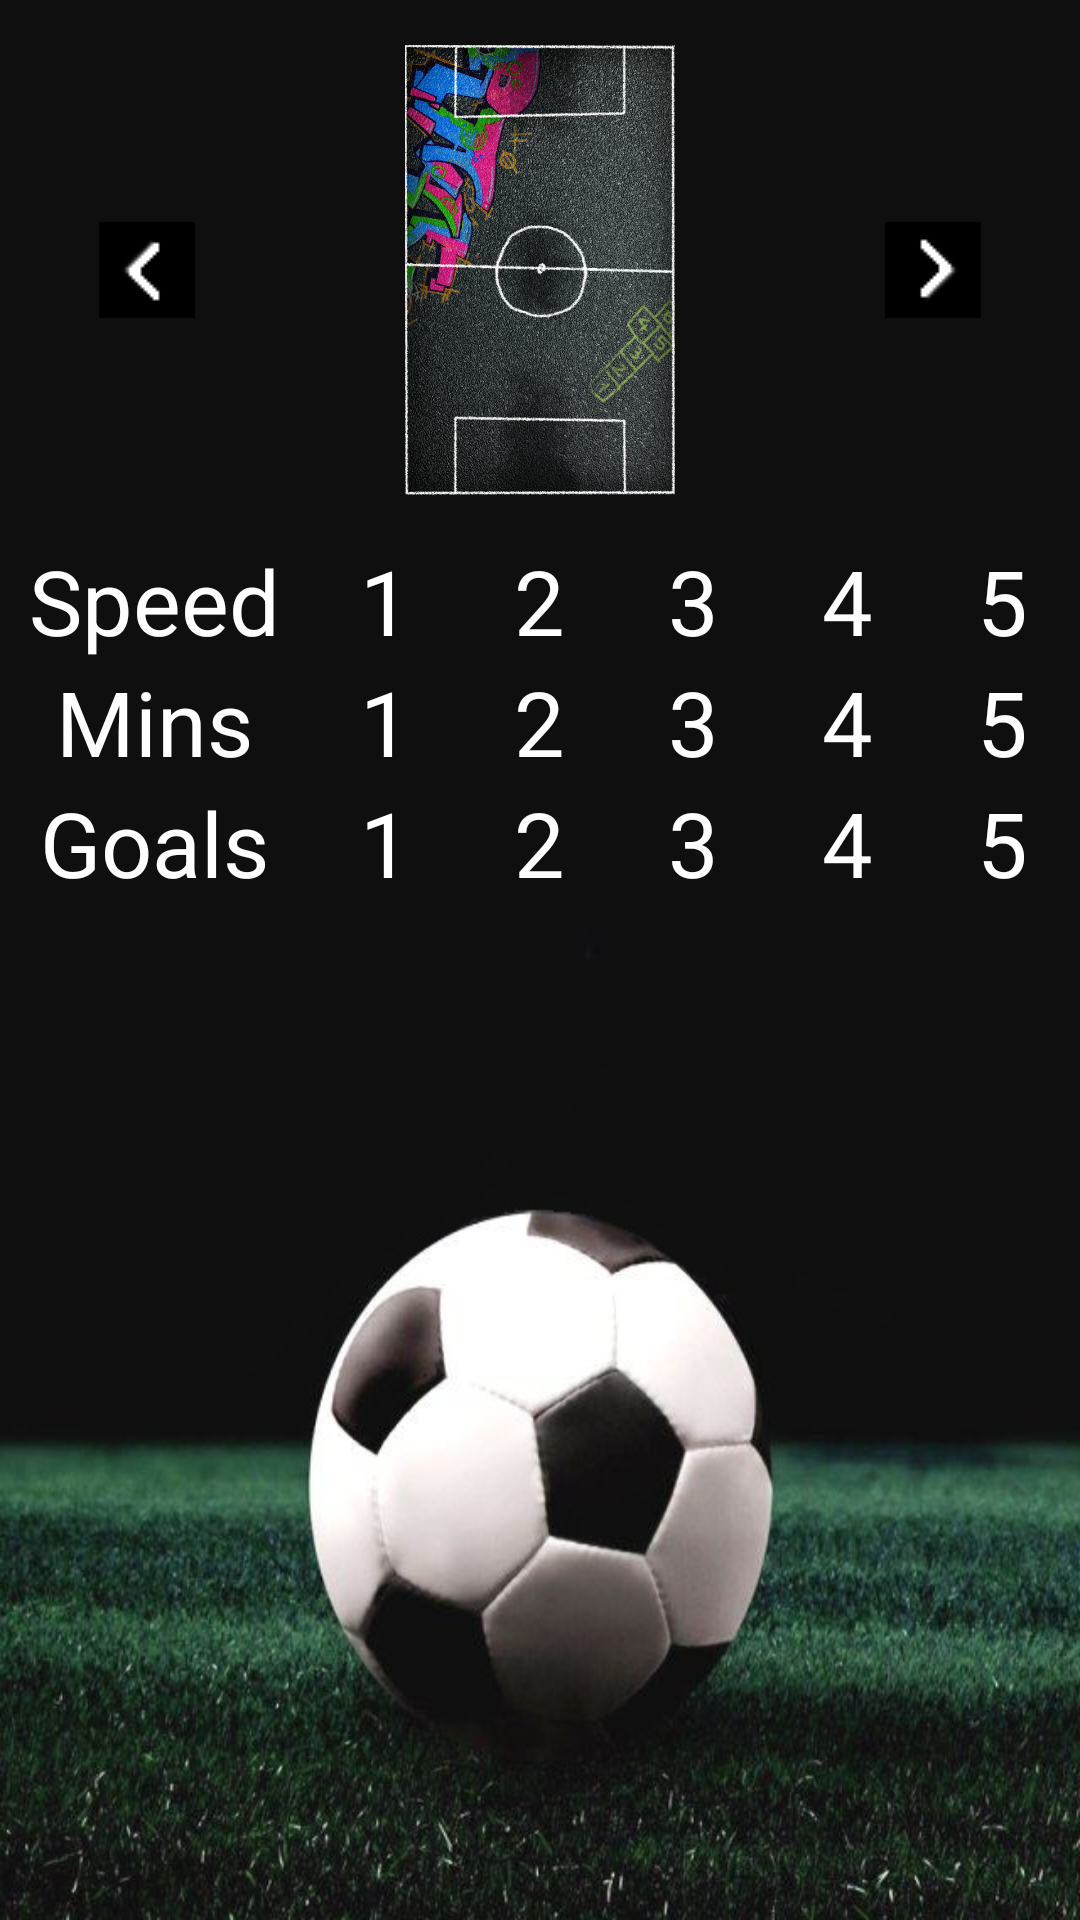

Icon bounding boxes for this 1080px×1920px phone screenshot, format (x1, y1, x2, y2):
left: (99, 222, 195, 318)
right: (885, 222, 981, 318)
